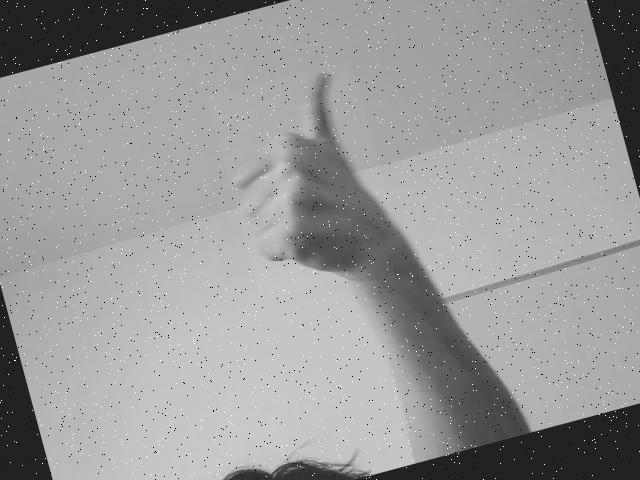good: (229, 61, 393, 284)
